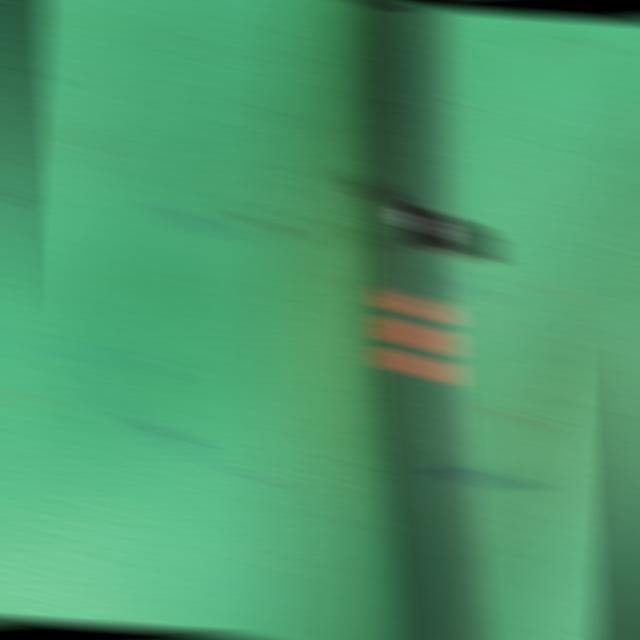red: (374, 288, 460, 385)
